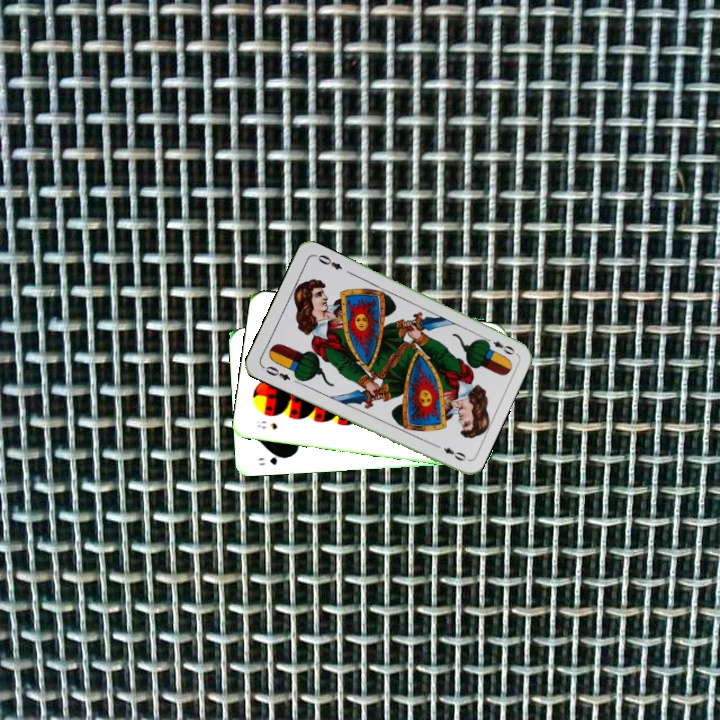EO: (480, 333, 517, 358), (261, 362, 293, 383)
GO: (254, 450, 290, 468)
S8: (253, 417, 280, 432)
